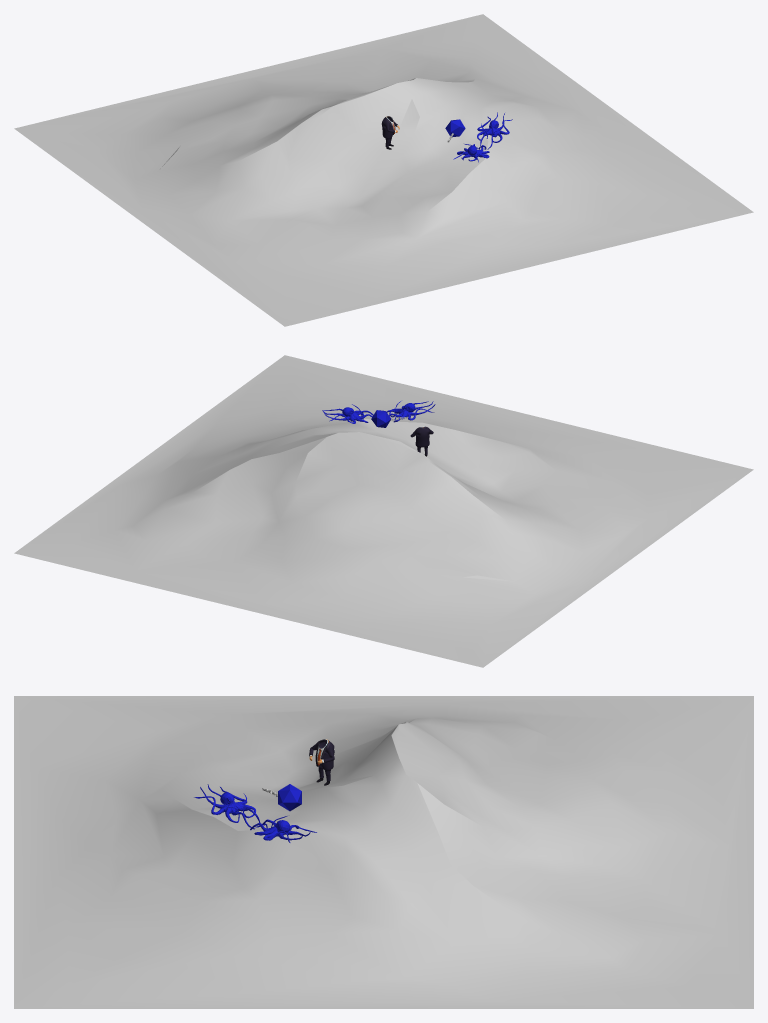
Rendered from trump_02.obj.
3 renders of one model, top to bottom at view 1: azimuth 30°, elevation 25°; view 2: azimuth 150°, elevation 25°; view 3: azimuth 270°, elevation 25°, orthographic. The views are drawn at different scales.
Parts seen in each view (by area): view 1: körper.1; view 2: körper.1; view 3: körper.1.
Boxes of the visible parts, x1,y1,x2,y2 form: körper.1: (14,14,753,326); körper.1: (14,355,753,667); körper.1: (14,696,753,1008).
Bounding box in the file's own units: 600 × 96.29 × 600.
Materials: 3 (1 with a texture image).
